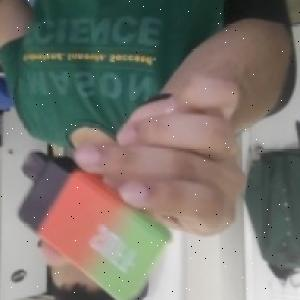Swift-E-Ciggirate: (13, 150, 175, 300)
